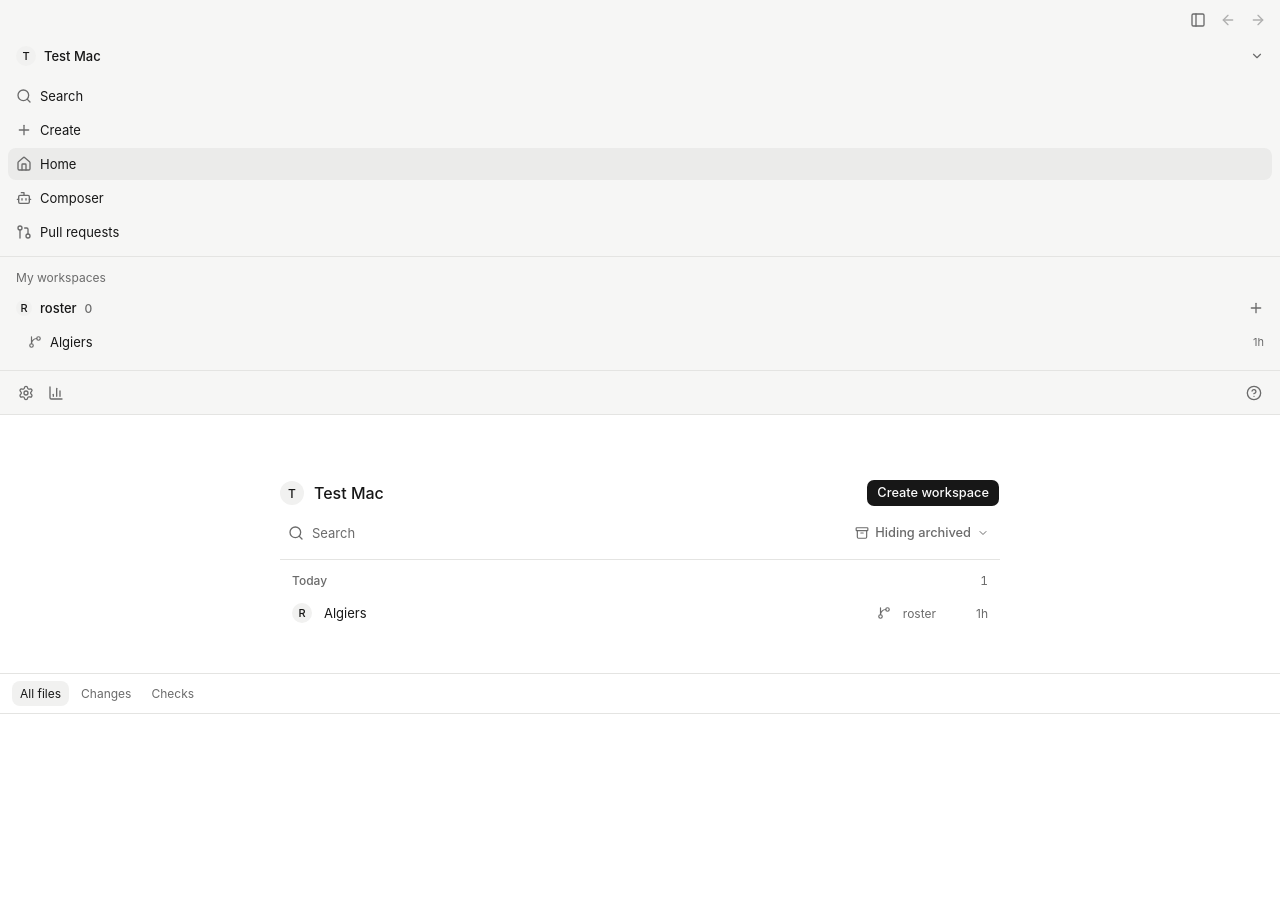
Home › hides archived workspaces until asked
The width and height of the screenshot is (1280, 900).
Expected: the text "Lima" is not shown
What coordinates should you click on to do the following:
click the button "Hiding archived"
I would click on:
 (922, 533)
Its box is [844,519,1000,547].
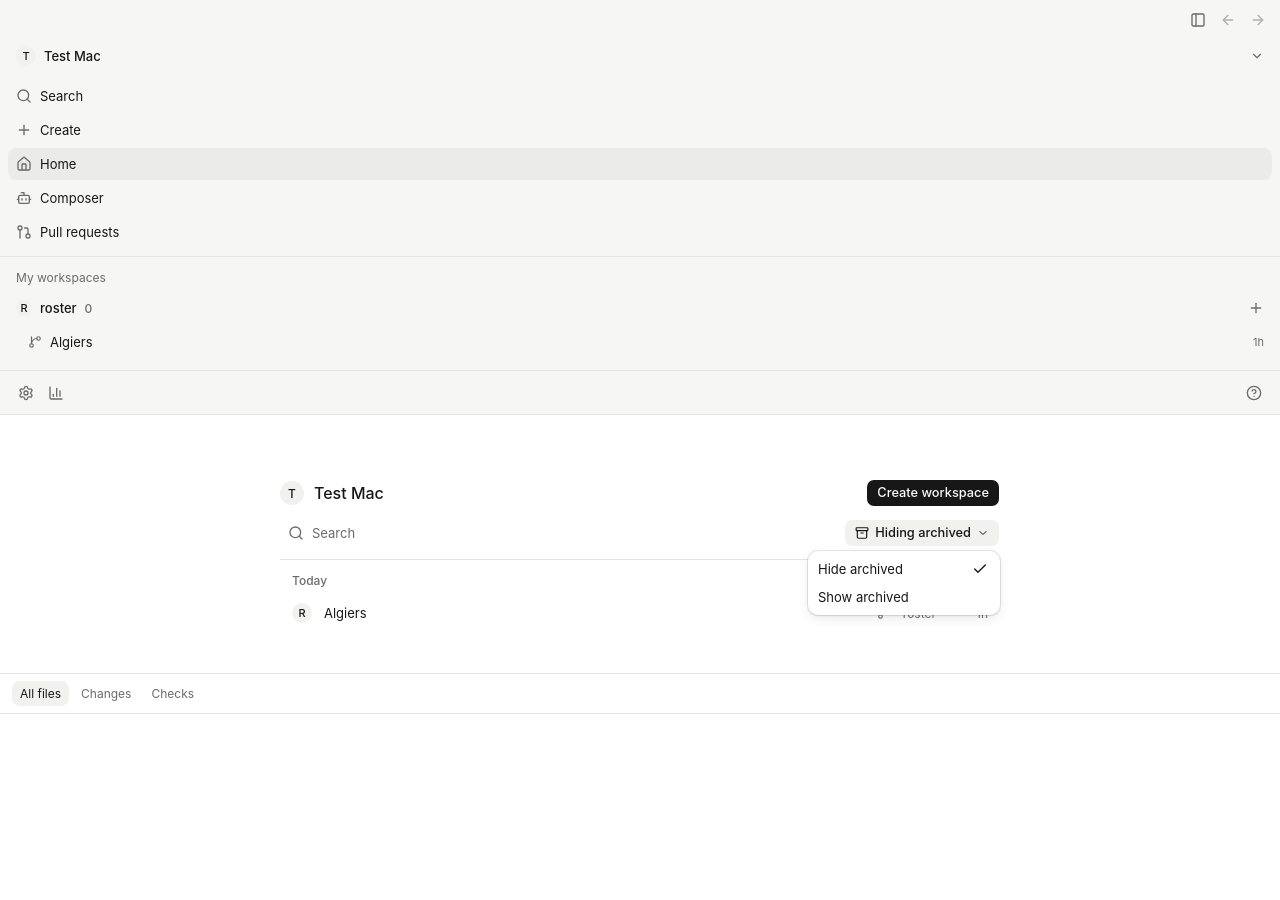
What coordinates should you click on to do the following:
click the menu item "Show archived"
I would click on:
 (863, 597)
Its box is [818,589,909,605].
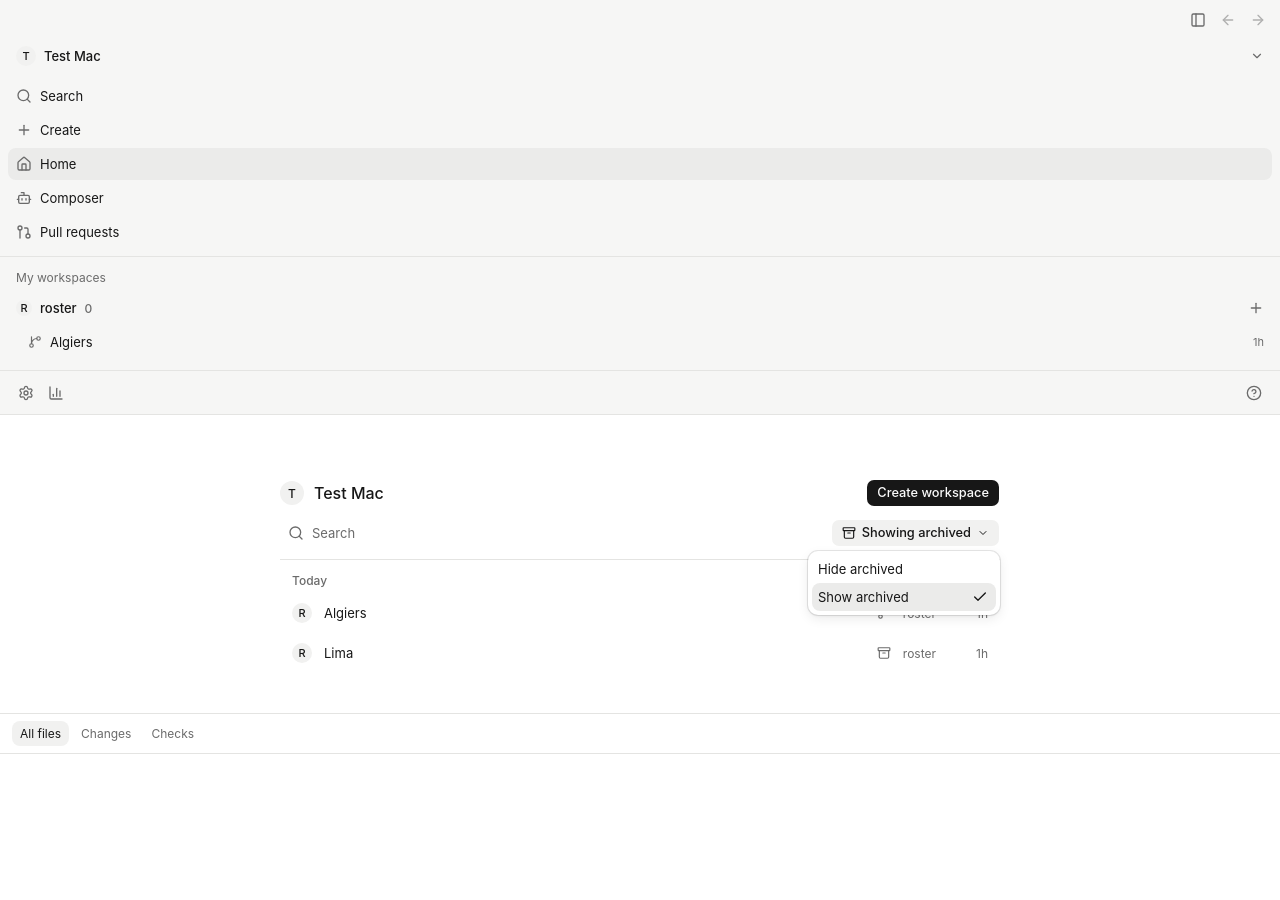
Now the text "Lima" is shown, box [324,645,353,661]
Now the button "Showing archived" is shown, box [831,519,1000,547]
